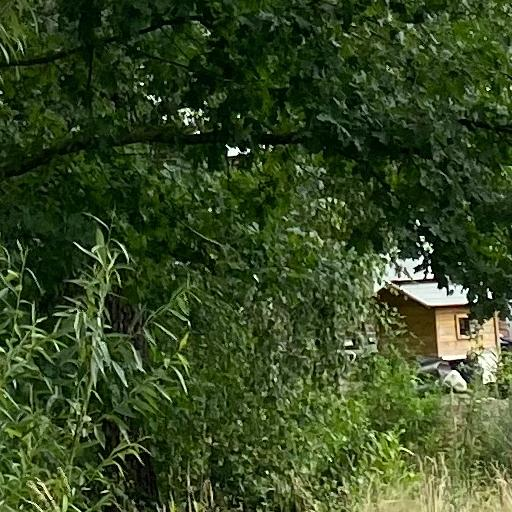tree: (1, 1, 512, 325)
